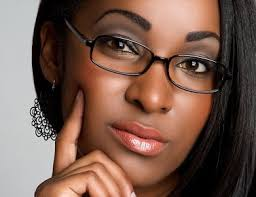black_female: (38, 1, 245, 194)
